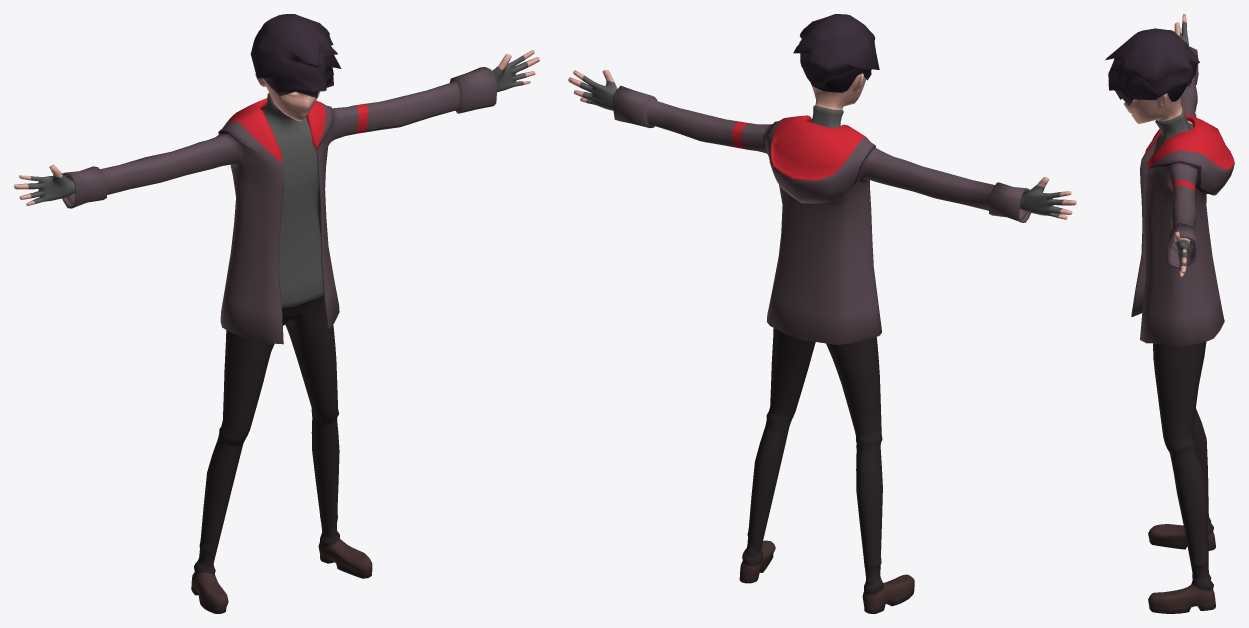
Rendered from VentusHigh.fbx.
The picture shows the model from 3 angles, left to right: view 1: azimuth 30°, elevation 25°; view 2: azimuth 150°, elevation 25°; view 3: azimuth 270°, elevation 25°; orthographic projection. The views are drawn at different scales.
Visible parts, largest first — view 1: Cylinder, Cylinder.001, Sphere; view 2: Cylinder.001, Cylinder, Sphere; view 3: Cylinder.001, Cylinder, Sphere.
Part boxes in pixels (bbox=[...]): Cylinder: bbox=[14, 50, 539, 613]; Cylinder.001: bbox=[62, 67, 496, 344]; Sphere: bbox=[250, 14, 341, 98]; Cylinder.001: bbox=[612, 85, 1030, 344]; Cylinder: bbox=[568, 68, 1076, 613]; Sphere: bbox=[793, 14, 879, 87]; Cylinder.001: bbox=[1131, 46, 1234, 346]; Cylinder: bbox=[1124, 14, 1215, 613]; Sphere: bbox=[1105, 28, 1199, 105].
Size of the model in its own units: 595 by 626 by 135.
